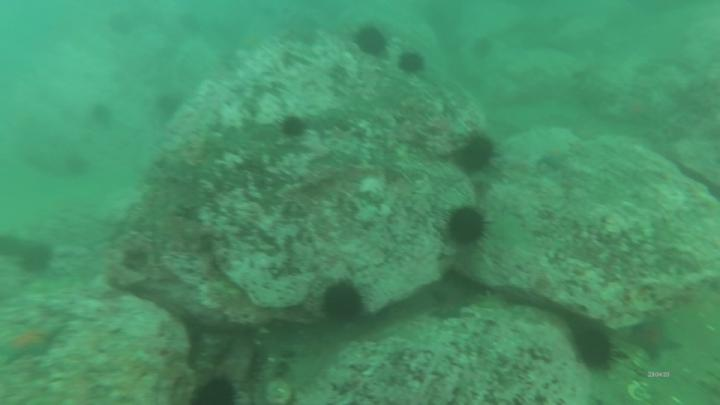echinus: (326, 286, 362, 322), (449, 210, 485, 246), (577, 331, 610, 368), (455, 139, 491, 171), (196, 382, 233, 405), (24, 247, 51, 273), (358, 30, 385, 56), (284, 117, 305, 136), (401, 52, 422, 71)
holothurian: (4, 326, 59, 360), (631, 323, 680, 361), (434, 301, 462, 321)
